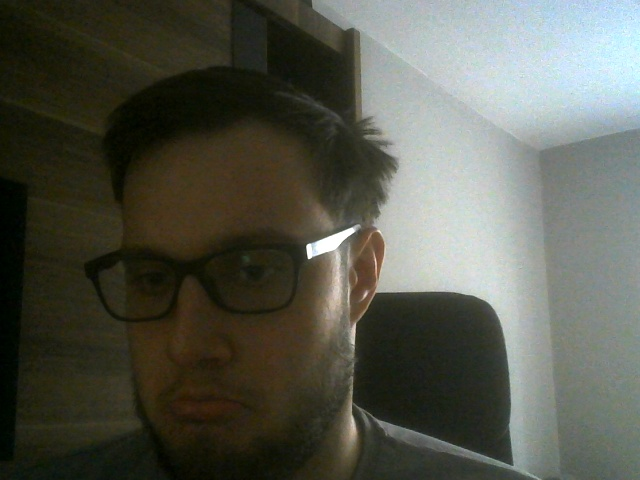neutral: (94, 71, 383, 480)
